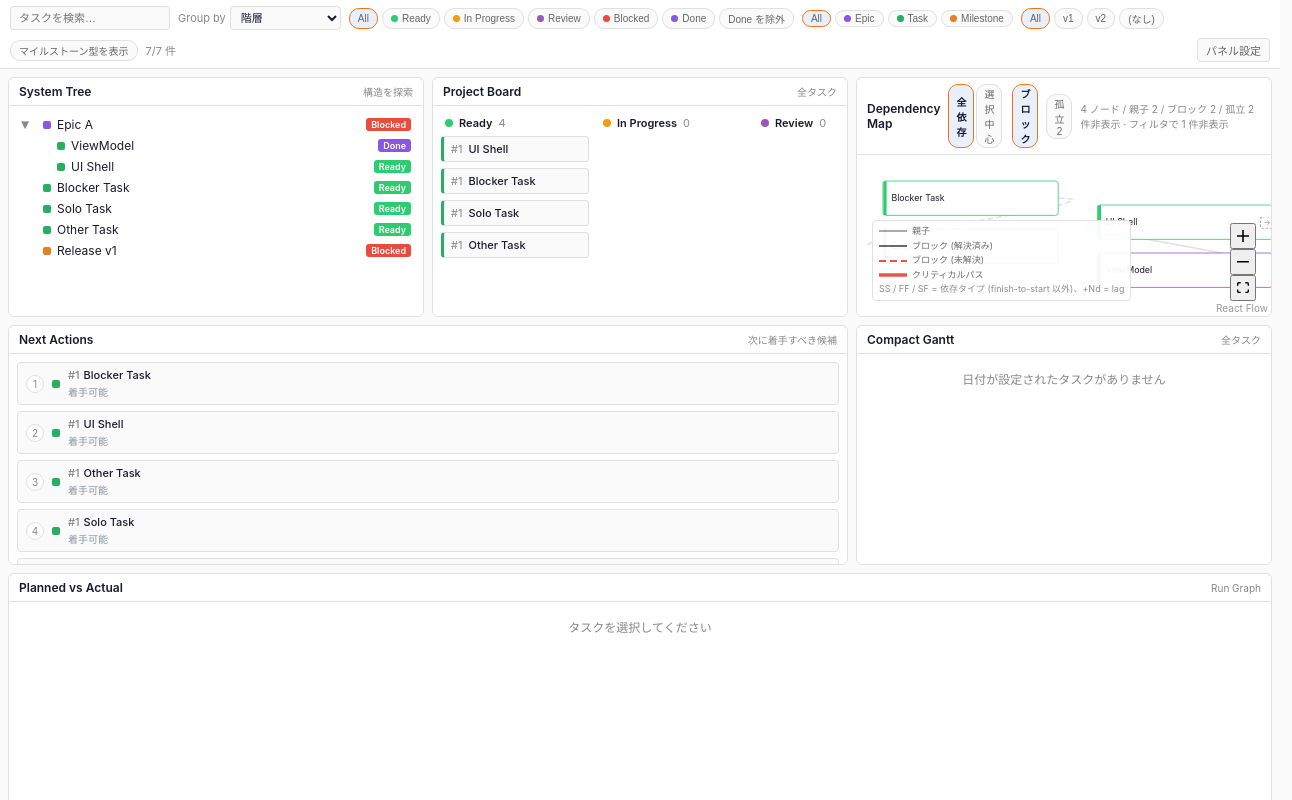
Test: [FR-VIS-030-AC2] ツールバーのマイルストーン絞り込みが Tree / Board / Next Actions / Timeline / Dependency Map に一貫して効く › v1 を選ぶと v1 配下だけが全パネルに残り、件数が一致する
Expected: the button "v2" is shown, [1087,8,1115,28]
Click the button "v1". click: (1068, 18)
box: [1054,8,1083,28]
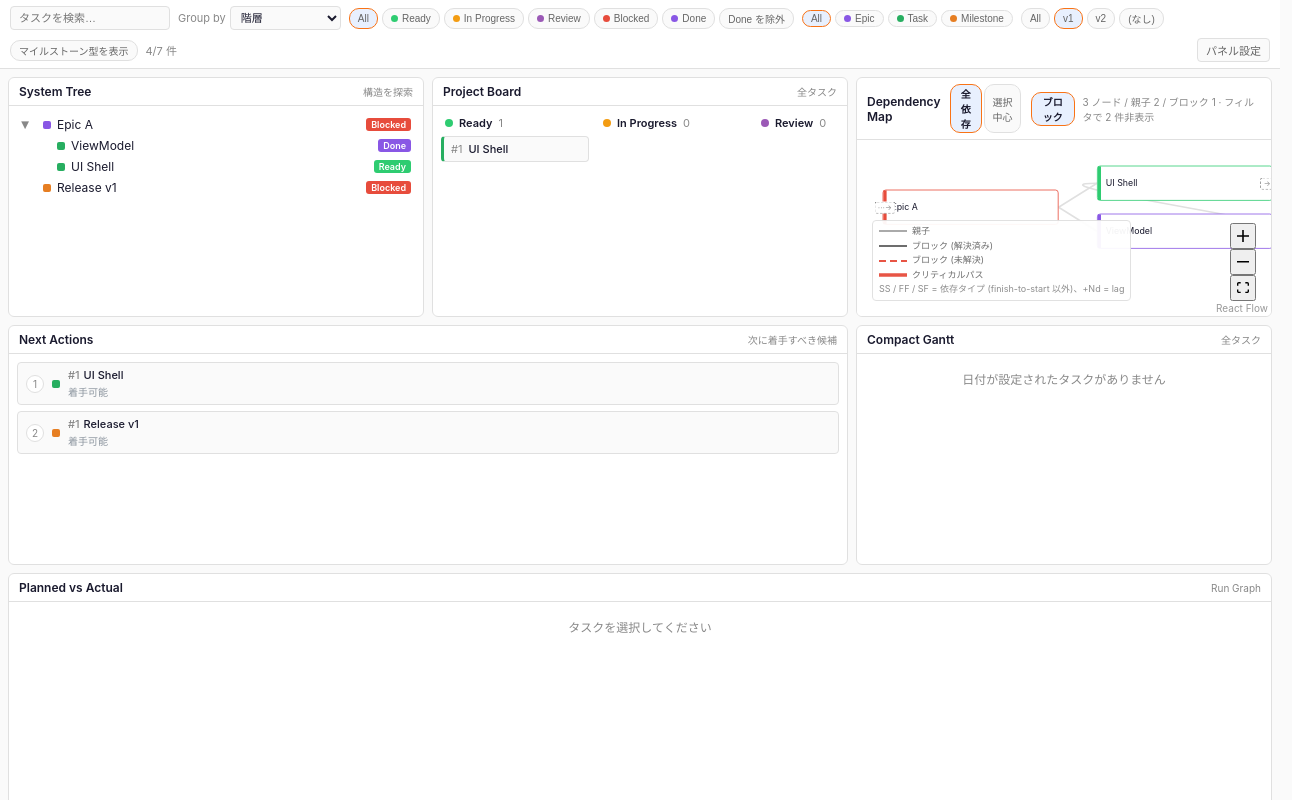
Expected: the text "4/7 件" is shown, [146,42,177,58]
Expected: the button named "System Tree" no longer shows "Other Task"
Expected: the button named "System Tree" no longer shows "Solo Task"
// v2 を追加選択で複数選択
Click the button "v2". click: (1101, 18)
box: [1087,8,1115,28]
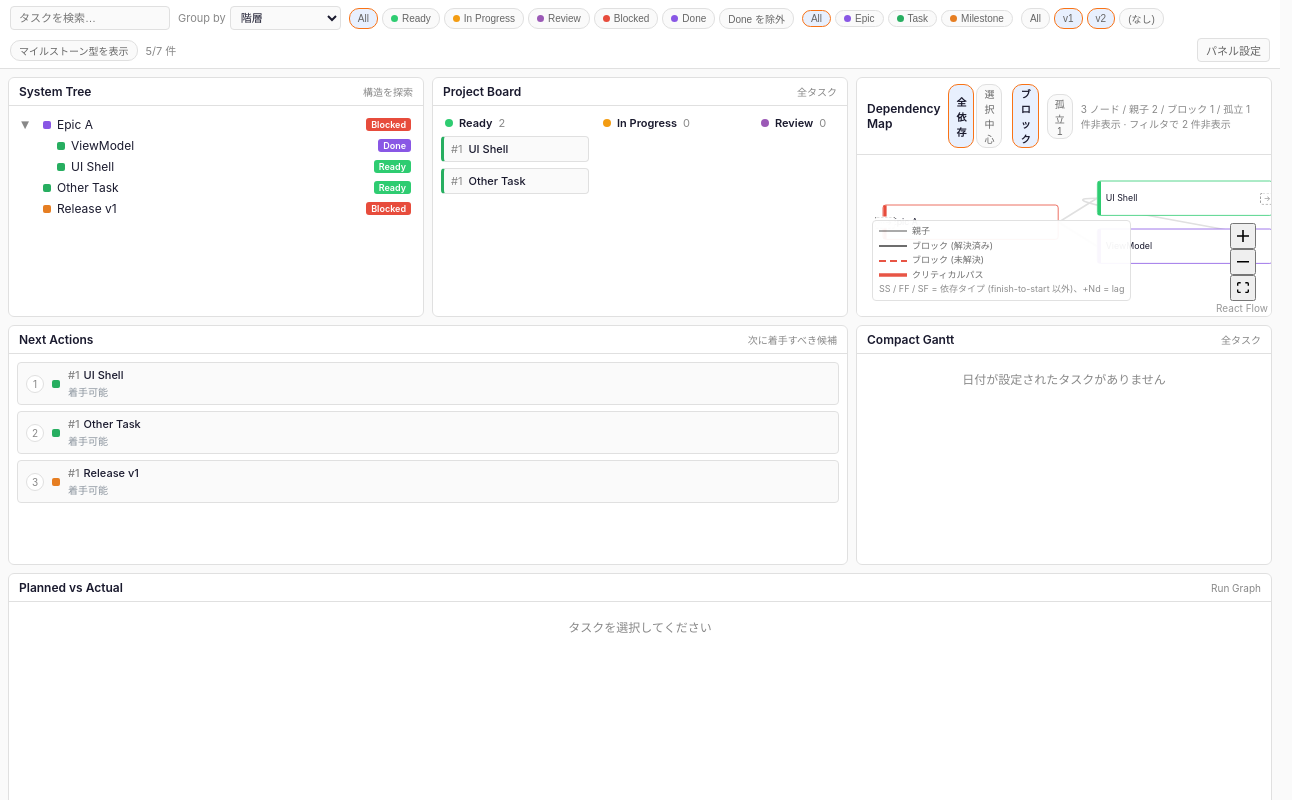
Expected: the text "5/7 件" is shown, [146,42,176,58]
Expected: the element named "Project Board" shows "Other Task", [468,174,526,188]
Click the 3rd button "All". click: (1035, 18)
box: [1021,8,1050,28]
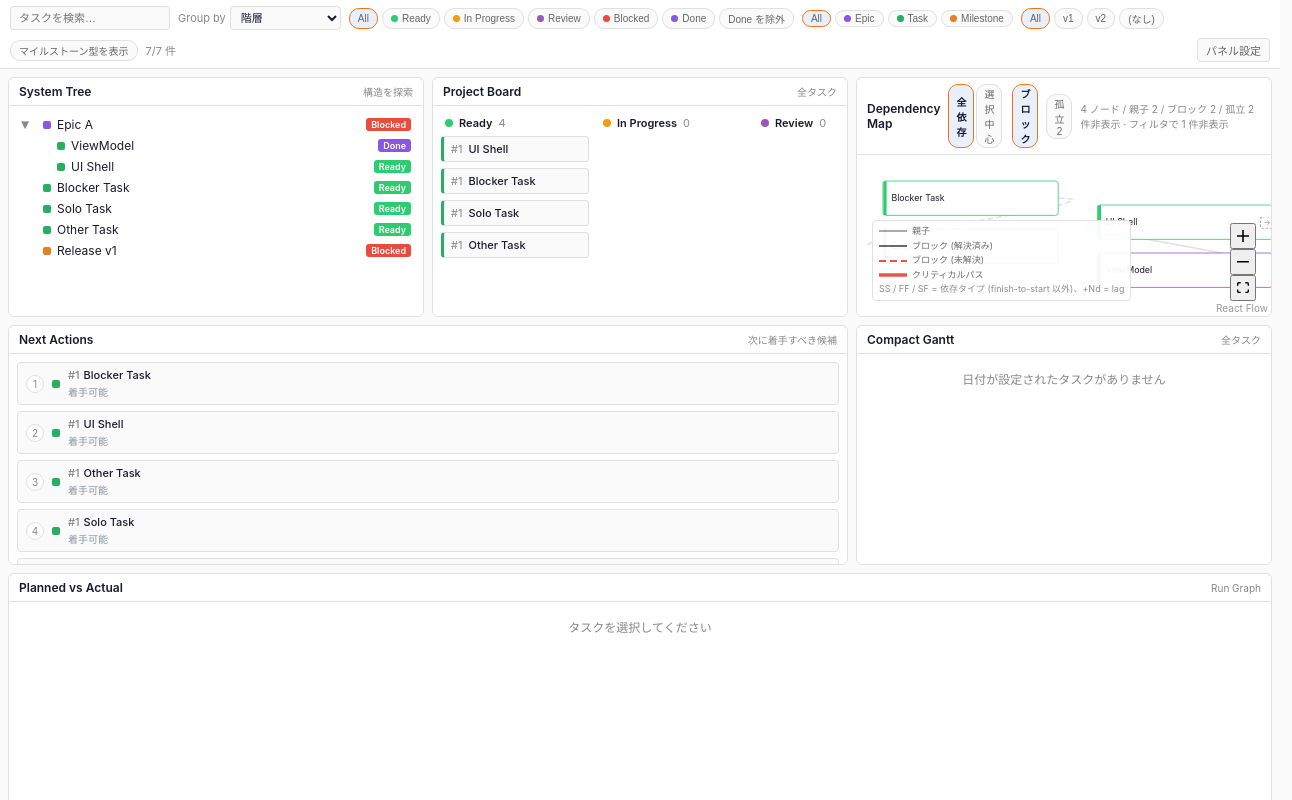
Expected: the text "7/7 件" is shown, [146,42,176,58]
